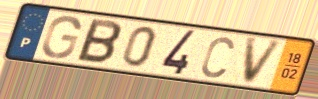0: (121, 24, 159, 70)
4: (159, 29, 196, 77)
B: (73, 17, 124, 67)
C: (199, 35, 237, 80)
G: (40, 15, 83, 60)
V: (242, 36, 286, 86)
